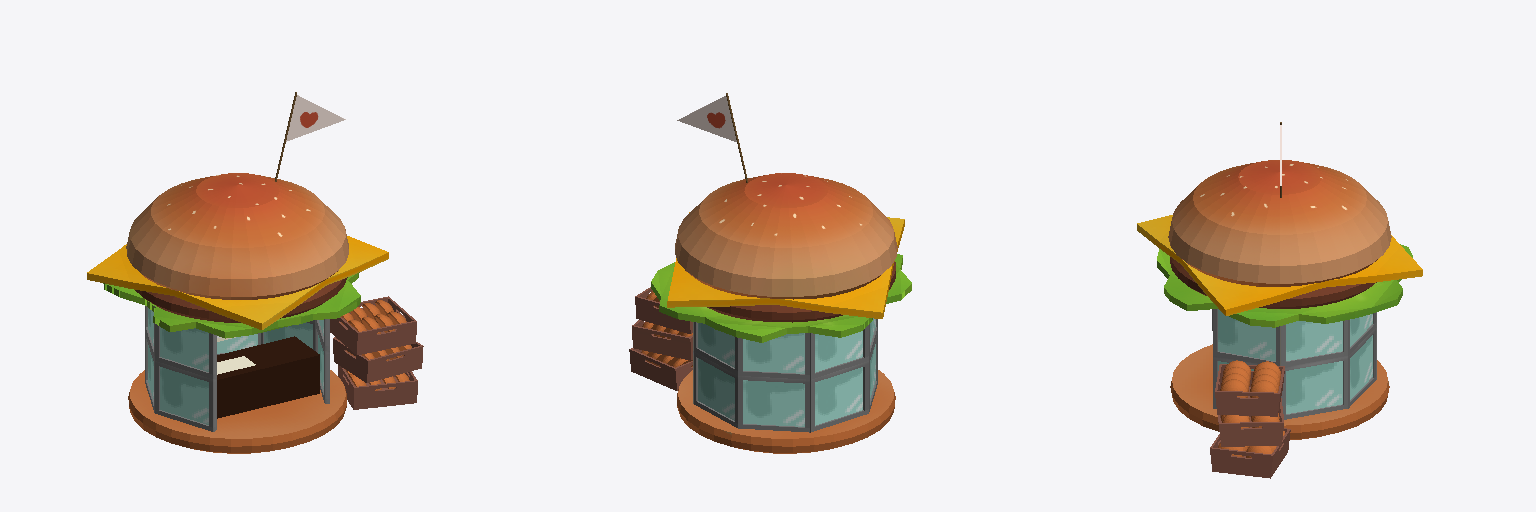
3 renders of one model, left to right at view 1: azimuth 30°, elevation 25°; view 2: azimuth 150°, elevation 25°; view 3: azimuth 270°, elevation 25°, orthographic.
Parts seen in each view (by area): view 1: Cube; view 2: Cube; view 3: Cube.
Boxes of the visible parts, x1=… form: Cube: x1=87, y1=92, x2=423, y2=453; Cube: x1=629, y1=93, x2=911, y2=453; Cube: x1=1137, y1=122, x2=1422, y2=478.
Bounding box in the file's own units: 3.03 × 3.13 × 2.64.
Materials: 1 (1 with a texture image).